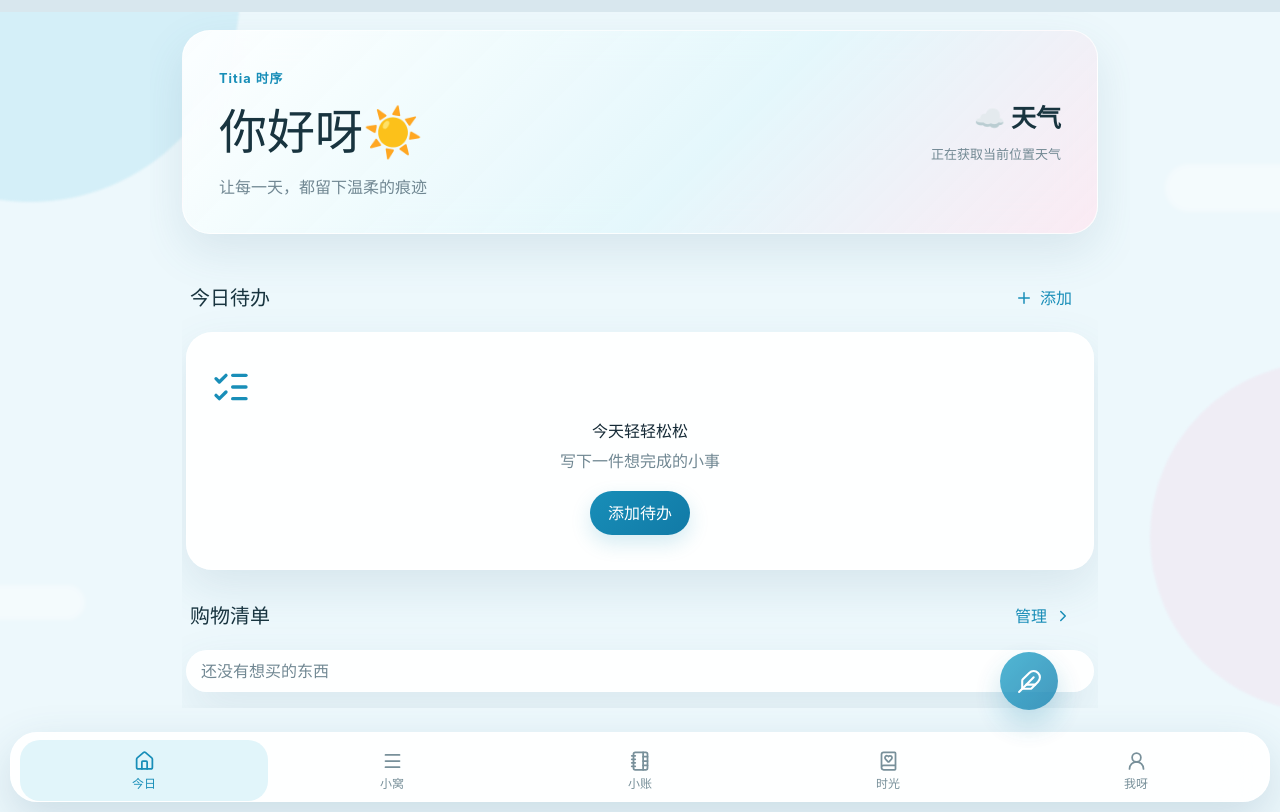
Test: TitiaApp › opens opacity settings when the Spark button is held without moving
Step 1. Press the mouse on the button named "灵光一闪" → {"x": 1029, "y": 681}, box [1000,652,1058,710]
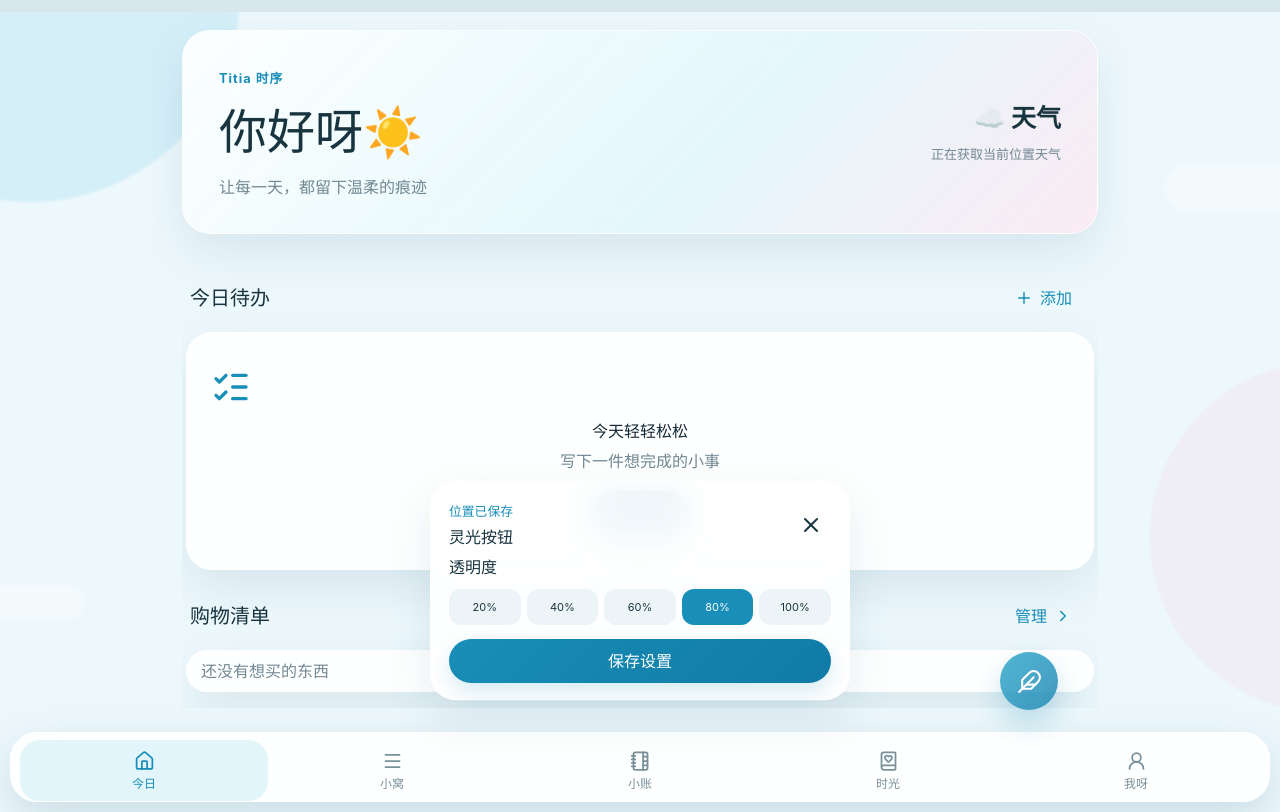
Check: the element named "灵光按钮设置" is shown, box [430,480,850,700]
